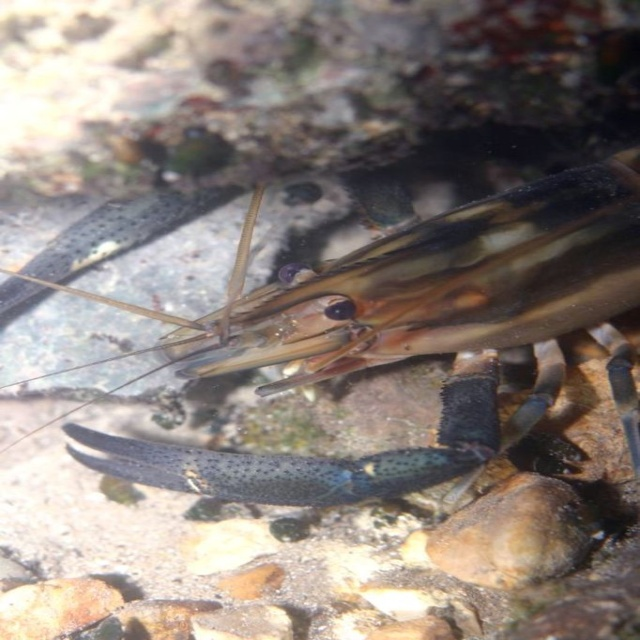Shrimp: (0, 140, 639, 503)
